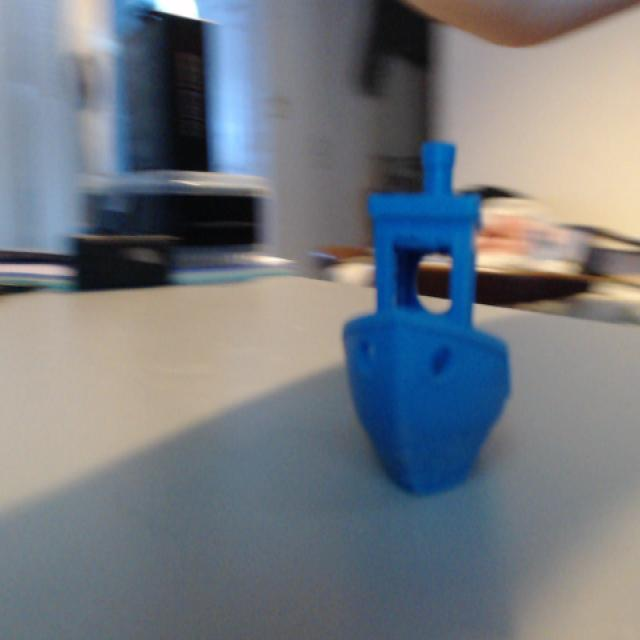benchy: (337, 138, 514, 502)
